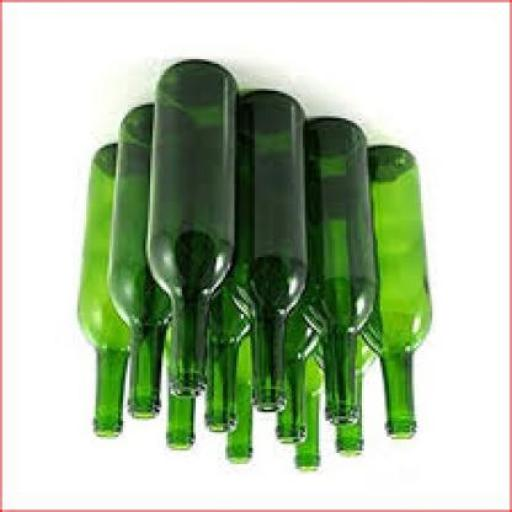glass: (144, 64, 234, 400), (225, 94, 303, 414), (298, 121, 373, 428), (358, 148, 430, 442), (105, 107, 171, 421), (75, 148, 142, 439), (310, 334, 374, 460), (200, 283, 248, 430), (273, 307, 321, 446), (294, 348, 326, 473), (223, 339, 252, 465), (164, 391, 190, 453)
